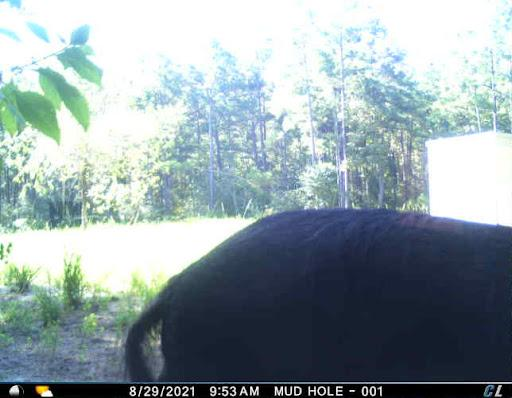Hog: (118, 199, 512, 383)
